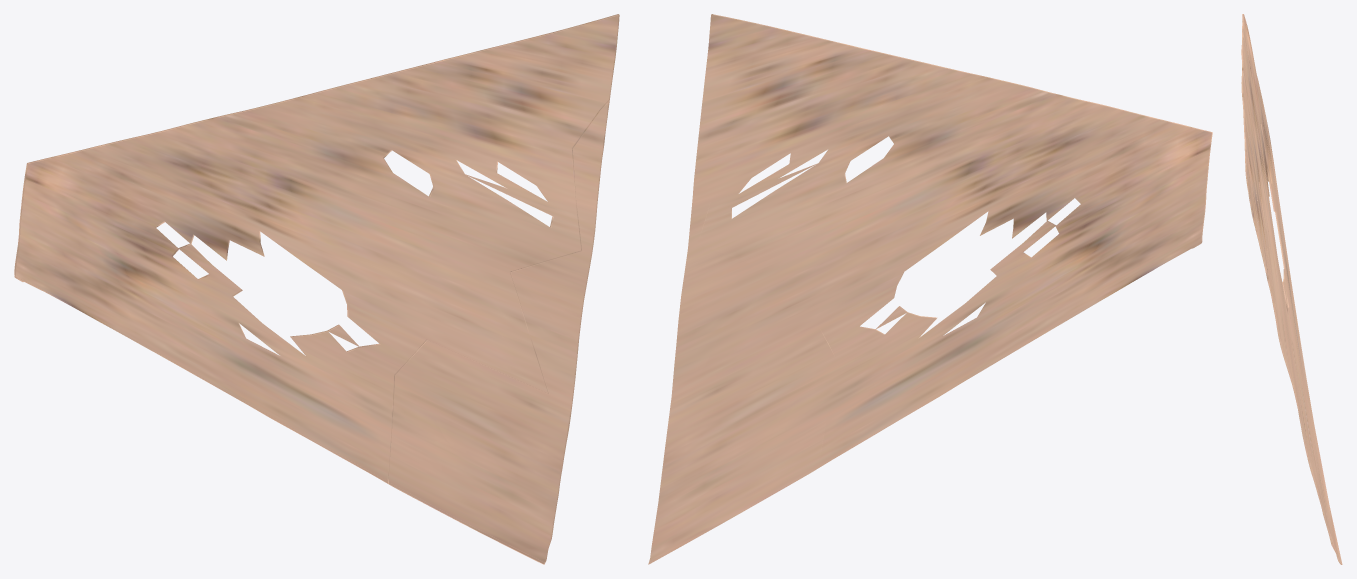
3 views of the same model, side by side, from view 1: azimuth 30°, elevation 25°; view 2: azimuth 150°, elevation 25°; view 3: azimuth 270°, elevation 25° (orthographic). The views are drawn at different scales.
Size of the model in its own units: 26.9 by 26.09 by 6.43.
Materials: 1 (1 with a texture image).
